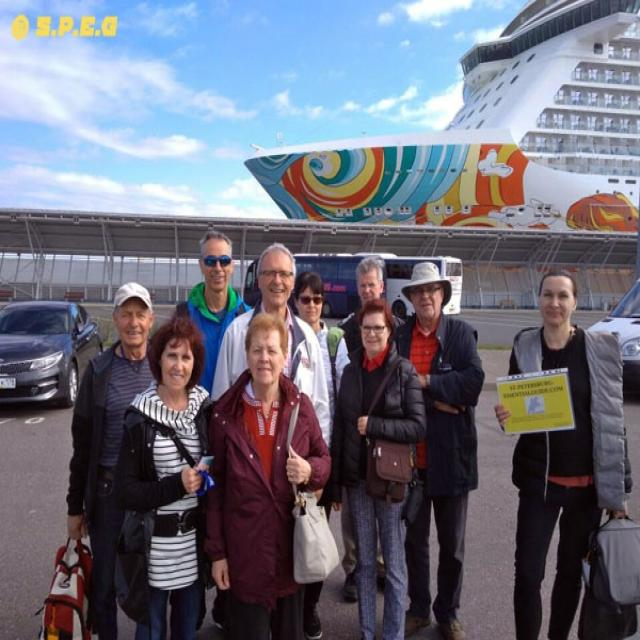body: (492, 266, 636, 638), (202, 306, 336, 639), (104, 309, 221, 639), (392, 255, 488, 639), (325, 293, 427, 639), (63, 278, 158, 640), (332, 255, 410, 604), (211, 240, 331, 447), (183, 229, 254, 397), (290, 268, 352, 448)
